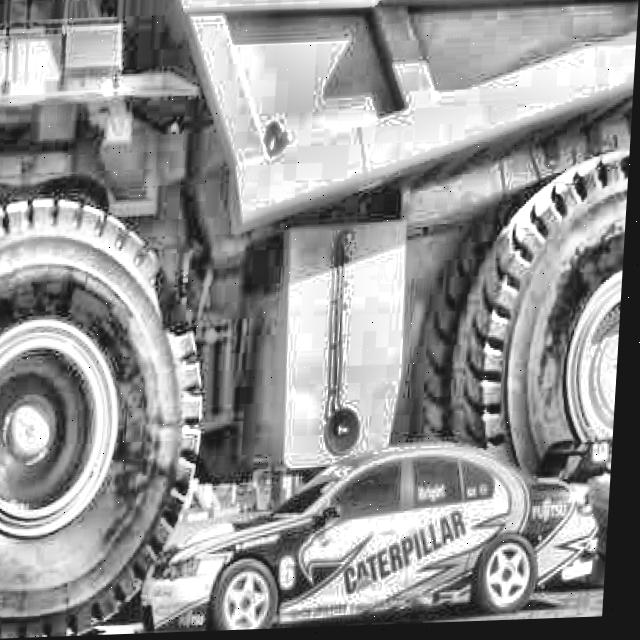dump_truck: (0, 0, 640, 618)
